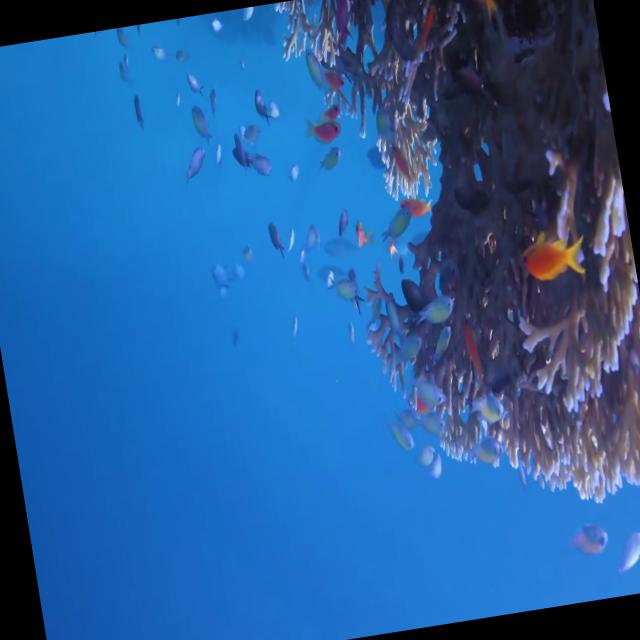fish: (517, 230, 587, 284)
